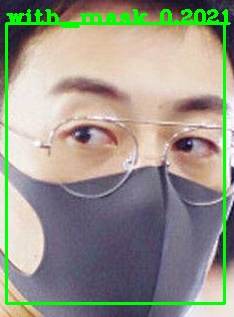with_mask: (3, 3, 234, 313)
